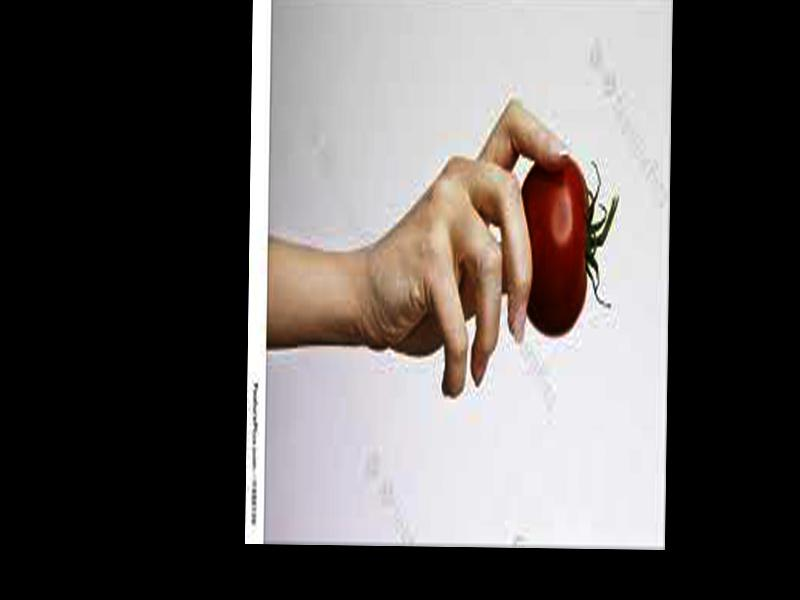Tomato: (521, 157, 617, 334)
